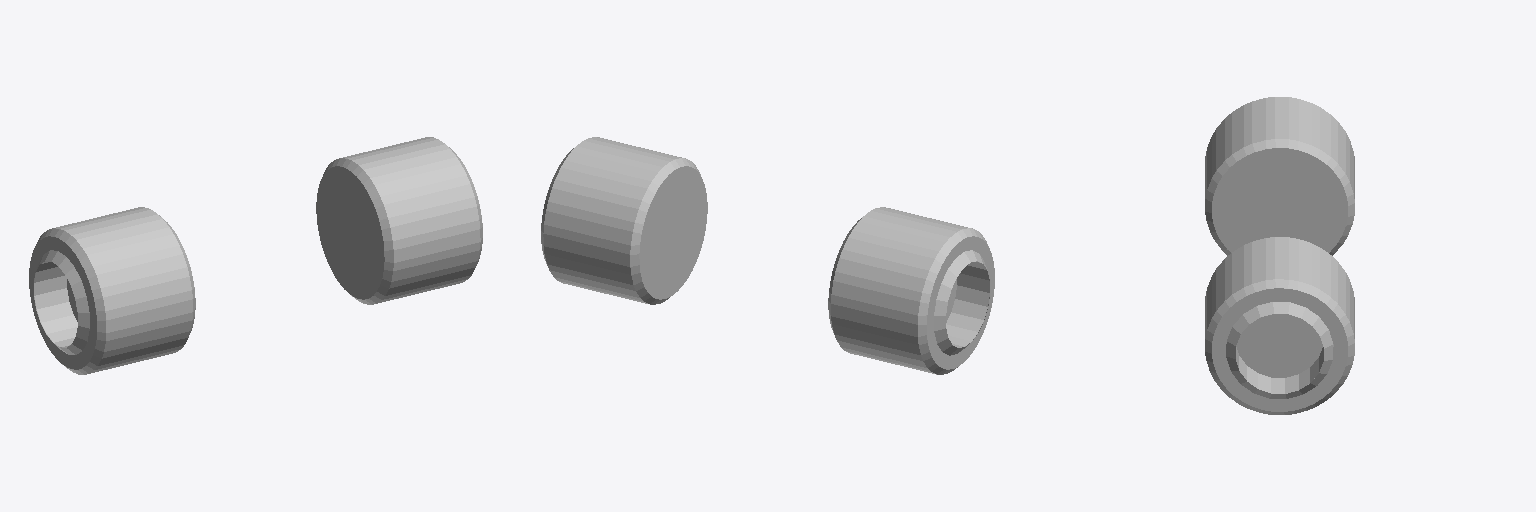
The model's file is Llantas2.obj.
3 views of the same model, side by side, from view 1: azimuth 30°, elevation 25°; view 2: azimuth 150°, elevation 25°; view 3: azimuth 270°, elevation 25° (orthographic).
Visible parts, largest first — view 1: polySurface12; view 2: polySurface12; view 3: polySurface12.
Part boxes in pixels (x1,y1,x2,y2): polySurface12: (29,137,482,374); polySurface12: (541,137,994,374); polySurface12: (1205,97,1354,414).
Size of the model in its own units: 12.2 by 3.96 by 3.96.